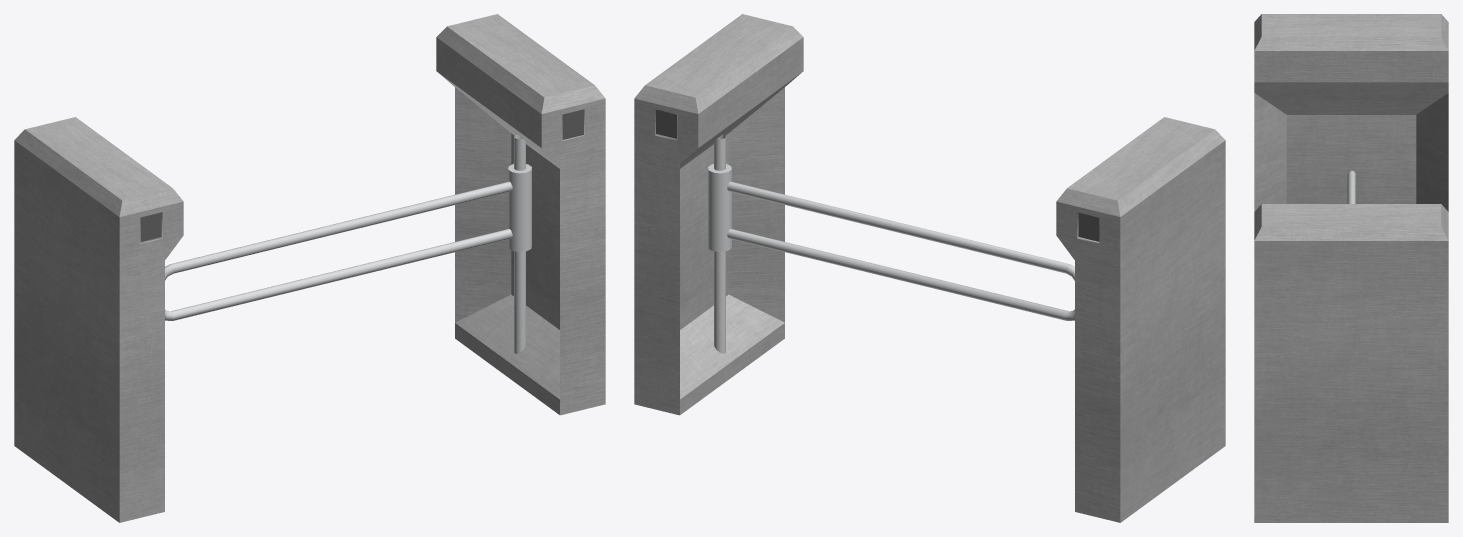
Rendered from turniket.fbx.
3 views of the same model, side by side, from view 1: azimuth 30°, elevation 25°; view 2: azimuth 150°, elevation 25°; view 3: azimuth 270°, elevation 25° (orthographic). The views are drawn at different scales.
Parts seen in each view (by area): view 1: Object_22, polySurface860; view 2: Object_22, polySurface860; view 3: Object_22, polySurface860.
Boxes of the visible parts, x1,y1,x2,y2 form: Object_22: [14, 14, 605, 522]; polySurface860: [165, 134, 531, 353]; Object_22: [634, 14, 1225, 522]; polySurface860: [708, 134, 1074, 353]; Object_22: [1254, 14, 1448, 522]; polySurface860: [1347, 170, 1355, 203].
Size of the model in its own units: 1.76 by 1.11 by 0.6592.
